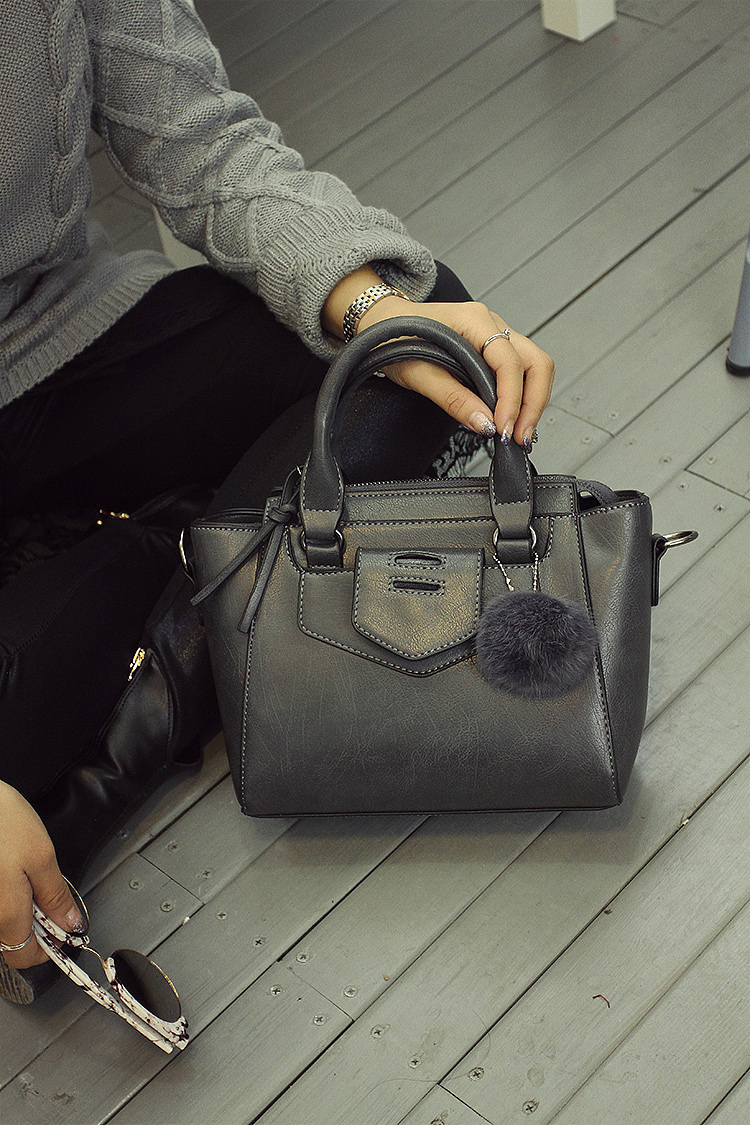flexible: (140, 317, 702, 817)
